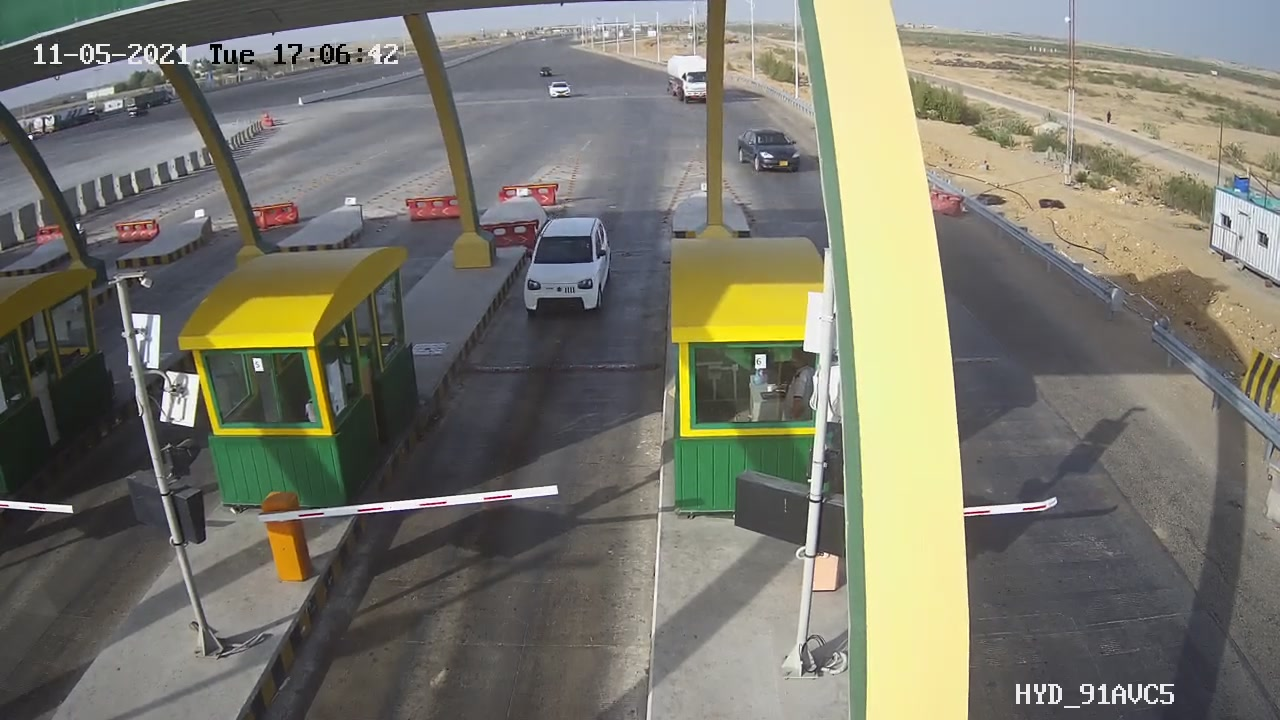F1: (508, 207, 631, 333)
